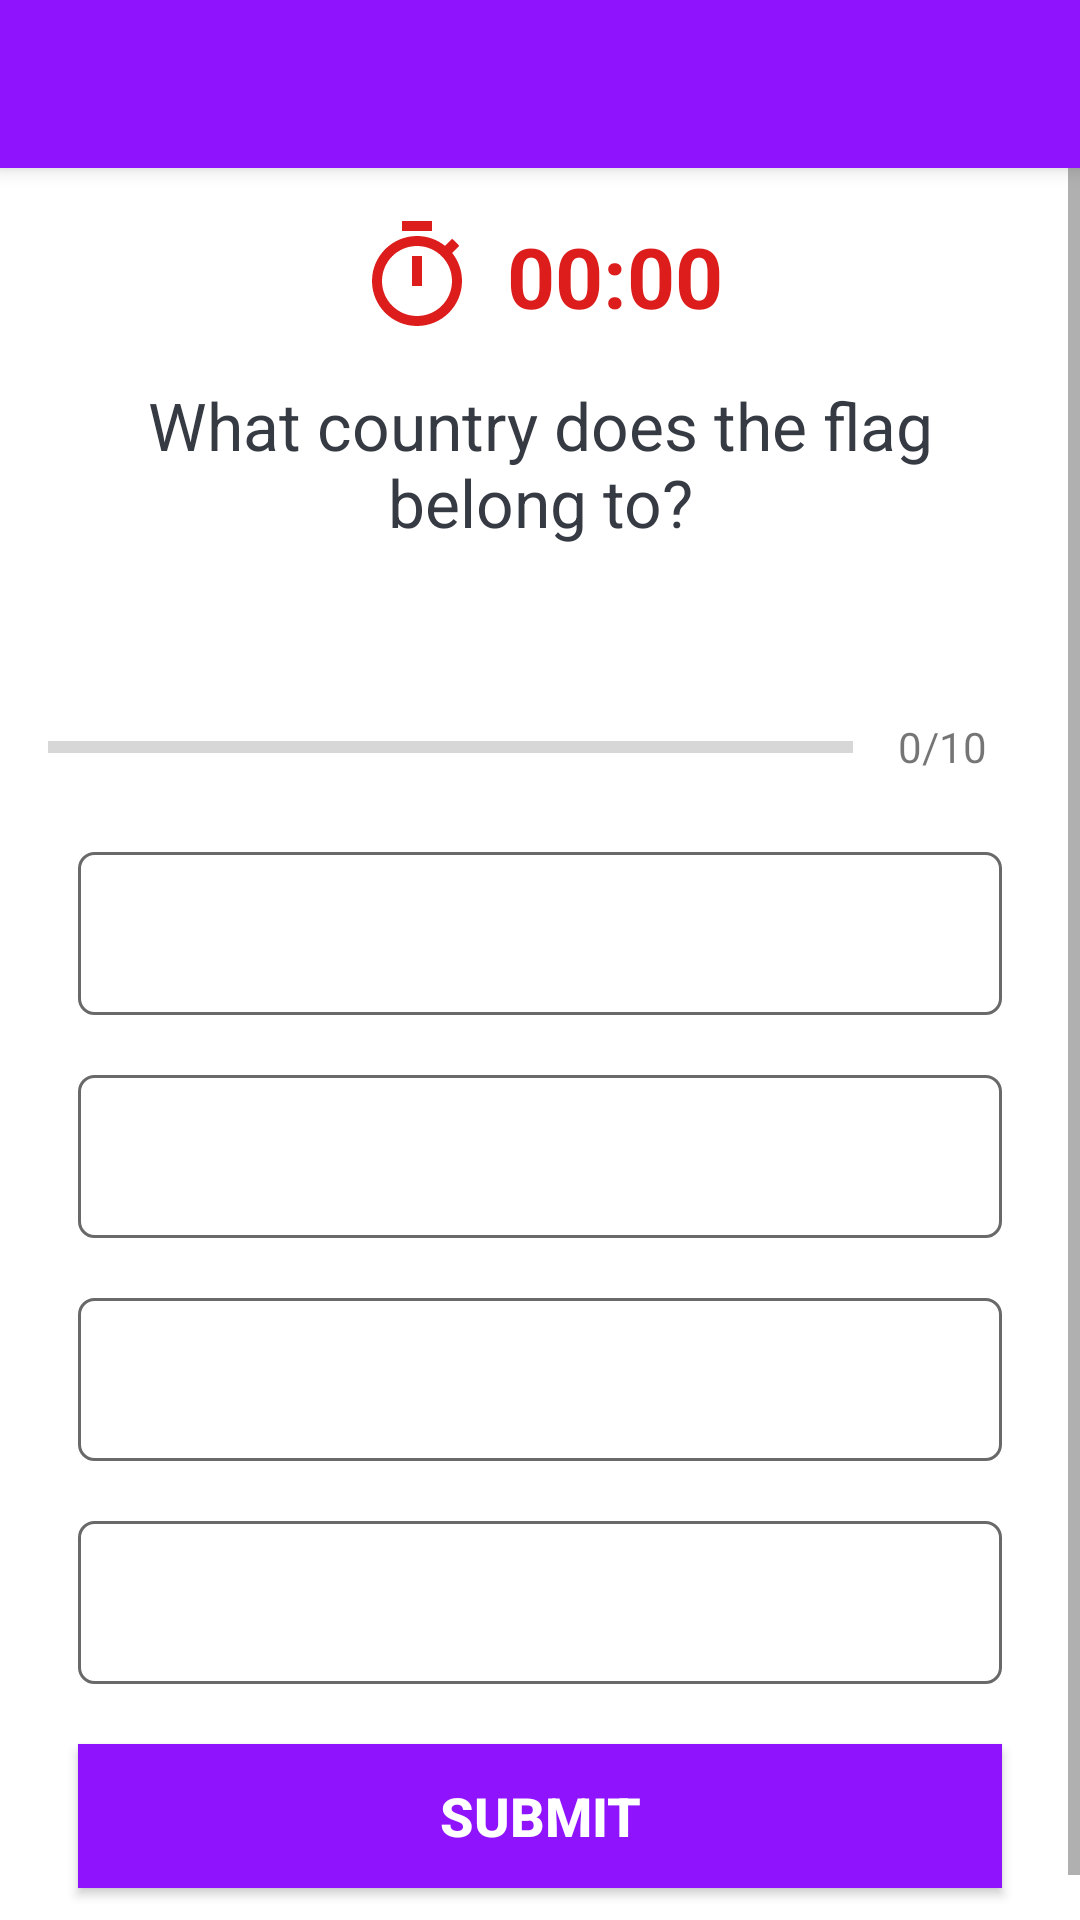

Point at icon controls on the screen. Image size 1080px x 1920px, points as point (x, y).
timer: point (417, 273)
